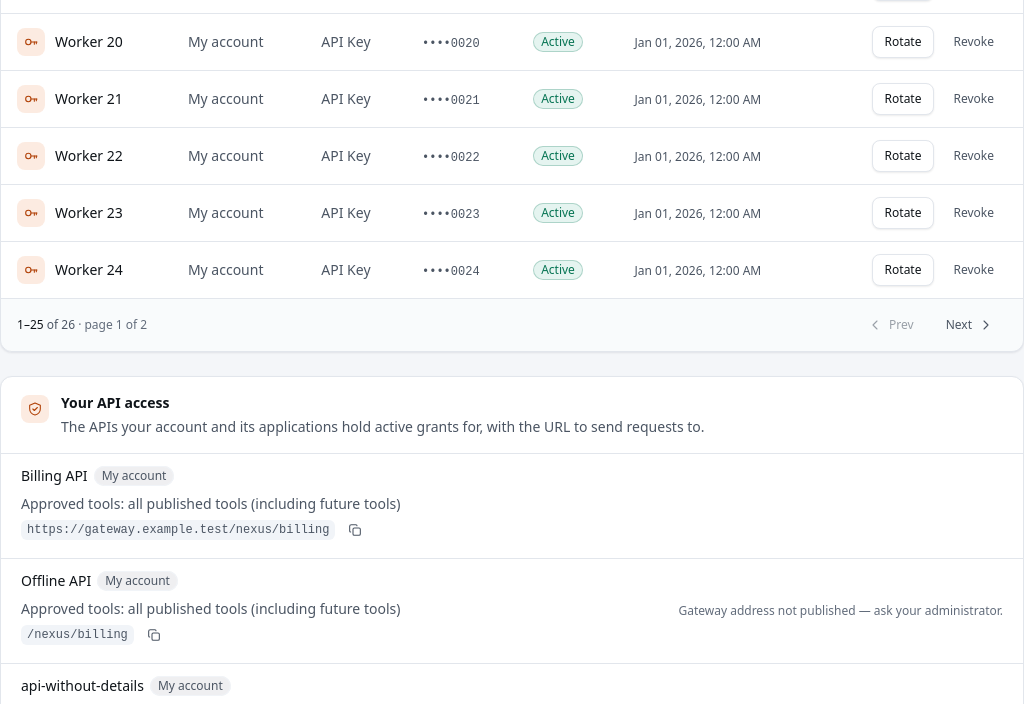
Scenario: credential management › paginates metadata and explains missing gateway addresses
(page scrolled)
Check: the heading "Your API access" is shown, box [61,393,170,412]
Check: the text "https://gateway.example.test/nexus/billing" is shown, box [21,520,336,540]
Click the button with aria-label "Next page". click: click(970, 325)
box: [933,309,1007,341]
(page scrolled)
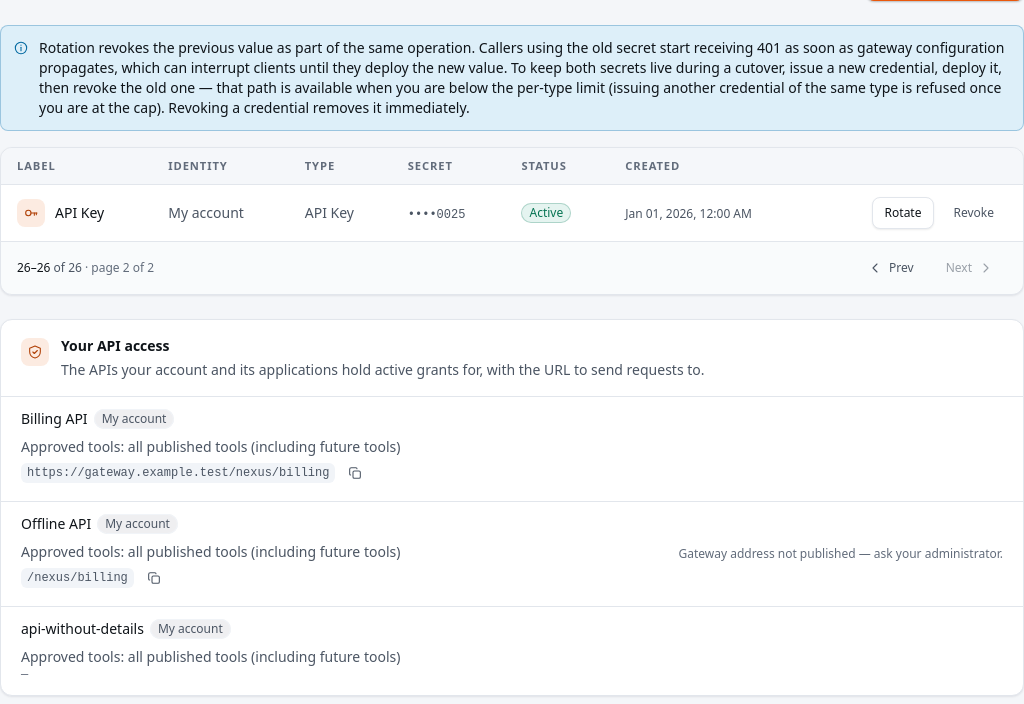
Click the button with aria-label "Previous page". click: click(890, 268)
box: [854,252,927,284]
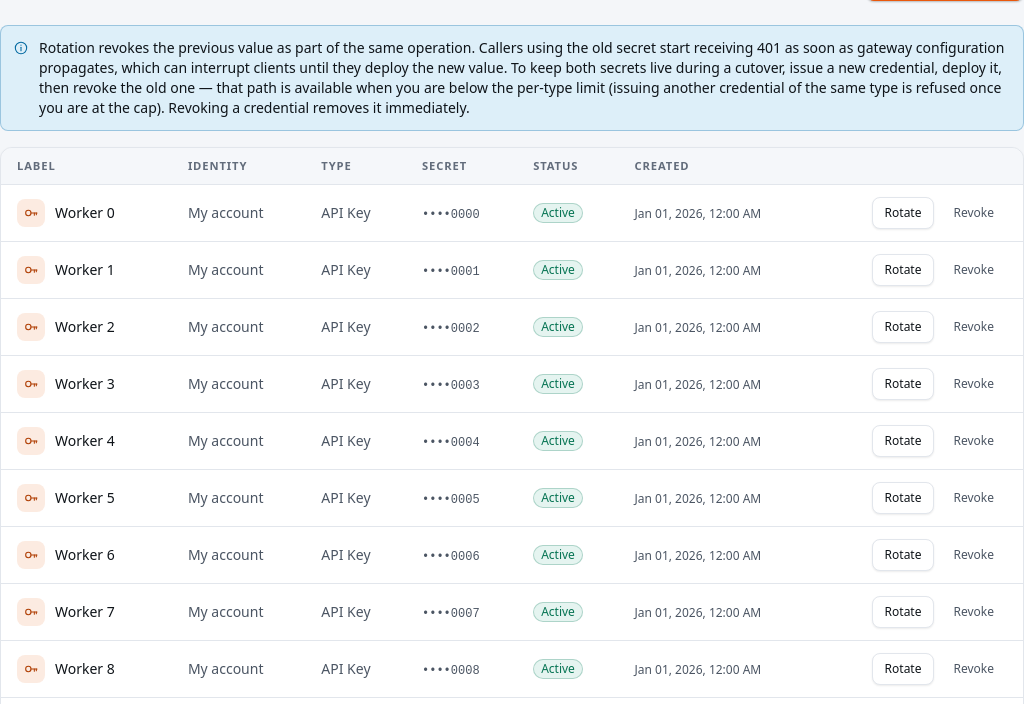
Check: the text "Worker 0" is shown, box [55,203,115,223]
